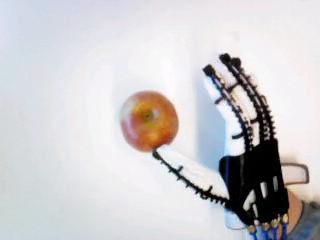apple: (118, 90, 178, 154)
hand: (153, 52, 289, 231)
